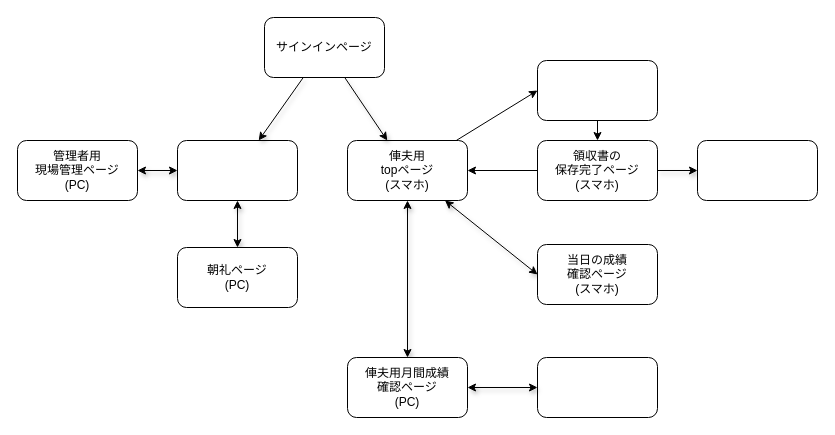
Some shapes in this 835 by 435 pixel diagram are drawn without their labels. The shapes that lost their labels are listed below. From the top down, each one's centre as x and y in pixels, then its label:
At point (597, 90): "領収書作成ページ (スマホ)".
At point (237, 170): "管理者用 topページ (PC)".
At point (757, 170): "領収書の pdf表示ページ (別タブ)".
At point (597, 387): "俥夫用日ごとの成績 確認ページ (PC)".
